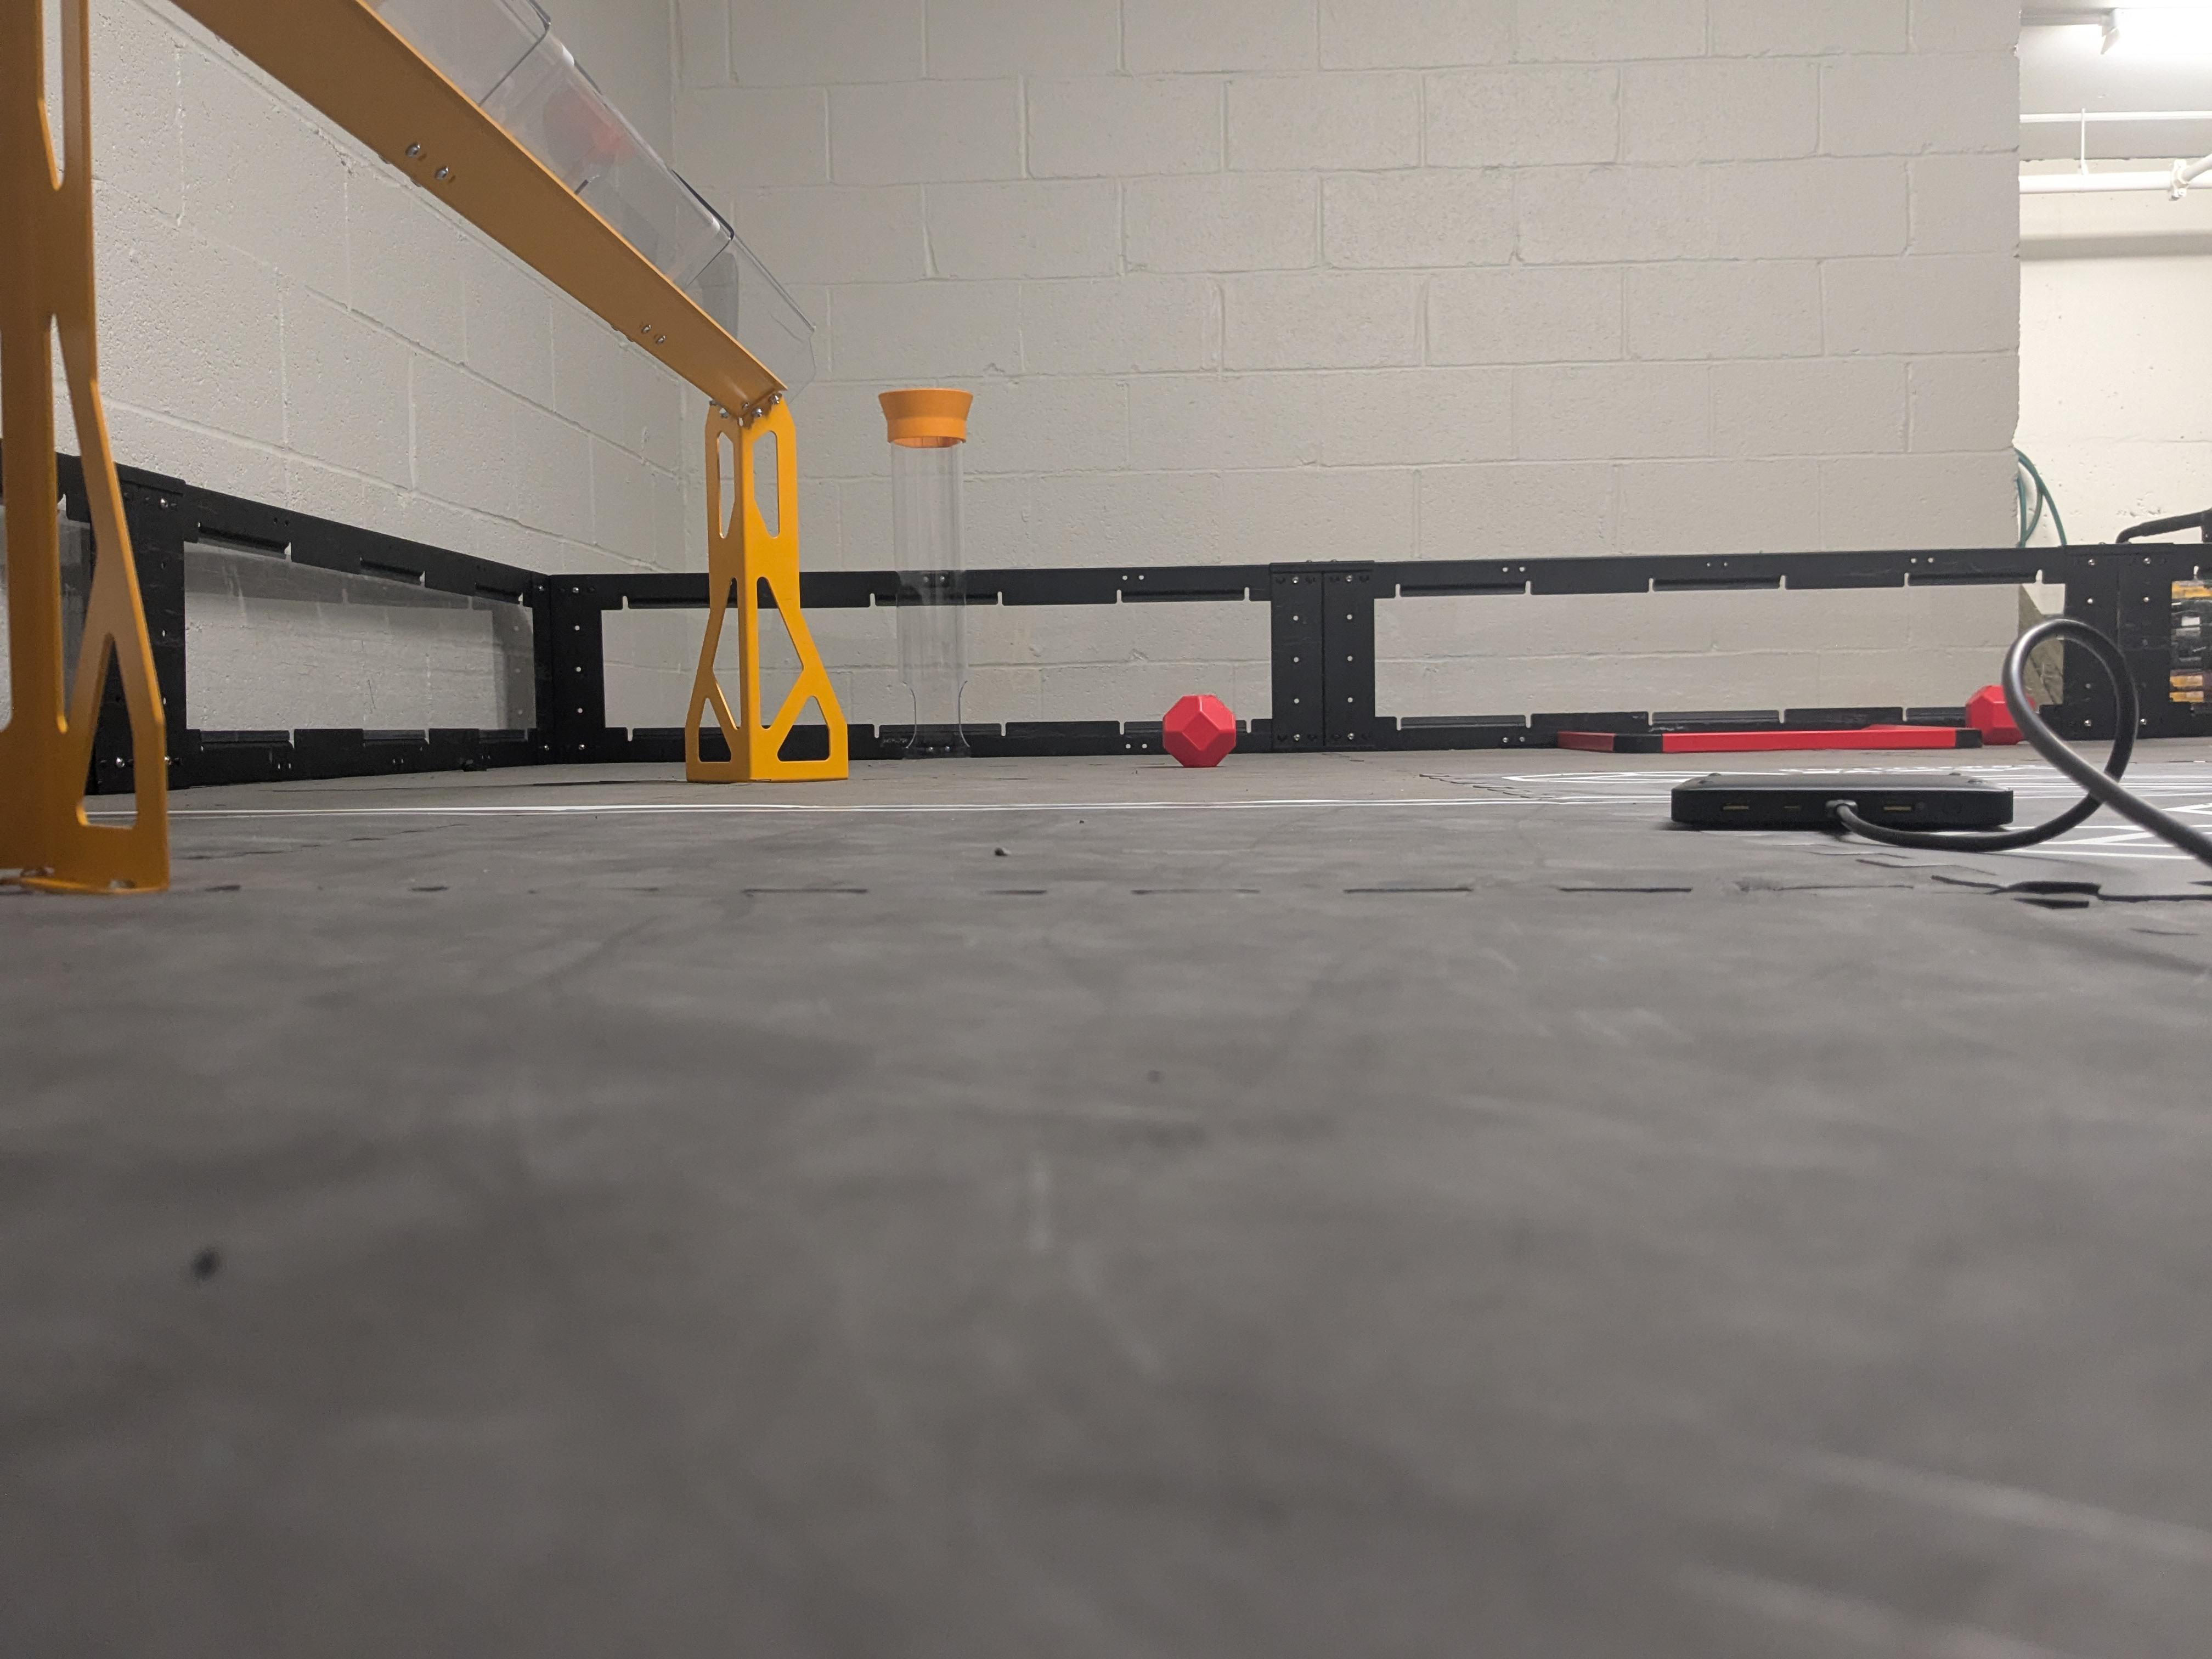Vex-Pieces-RED: (1162, 695, 1235, 767)
